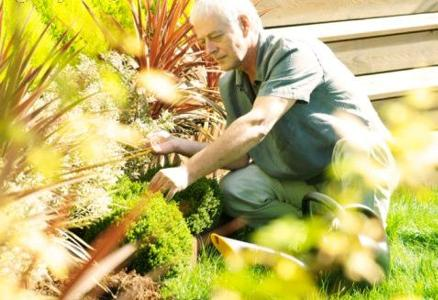person: (147, 2, 398, 232)
